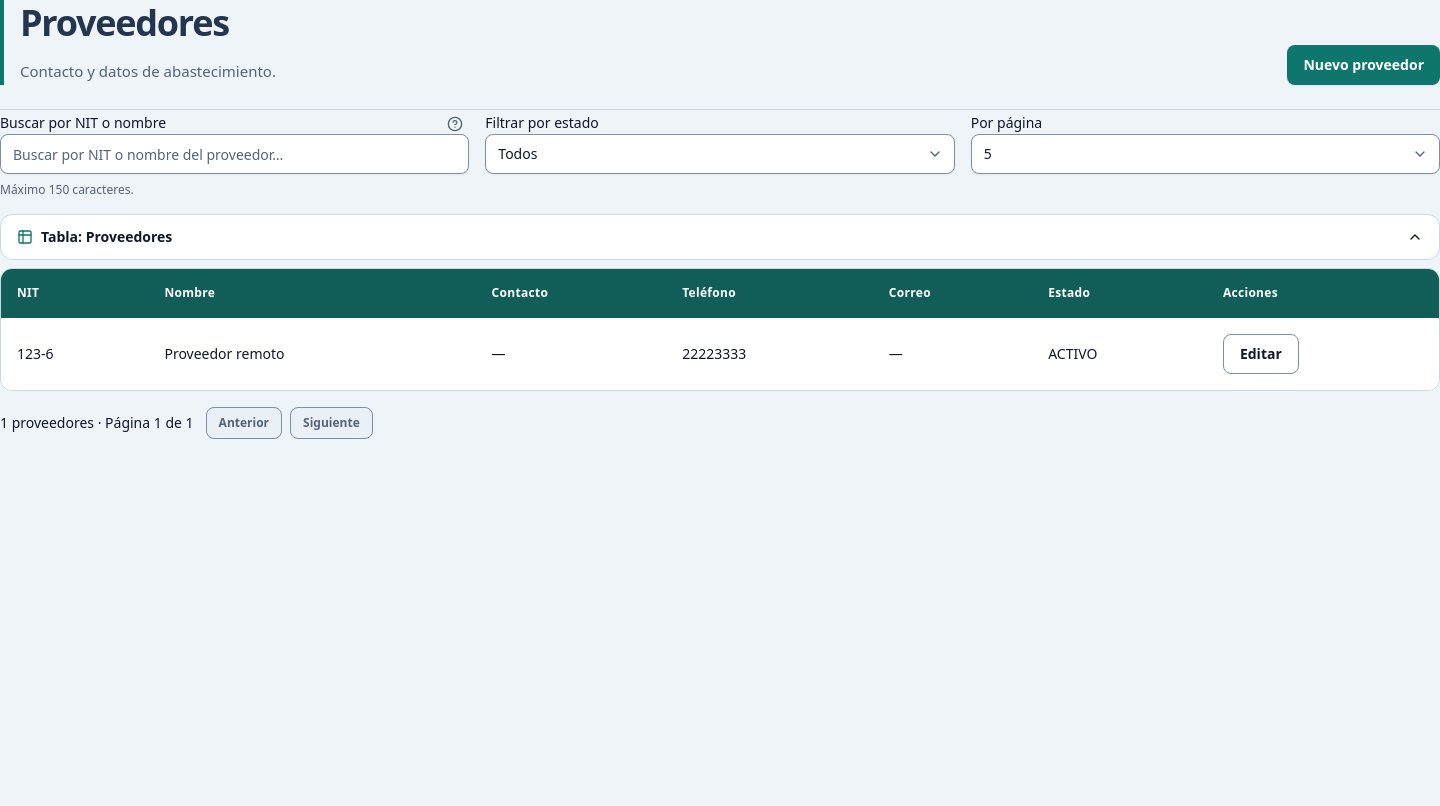
Test: proveedores HTTP › PATCH conserva campos y detalles 400
Click the button "Editar" at (1261, 354), box [1223, 334, 1299, 374]
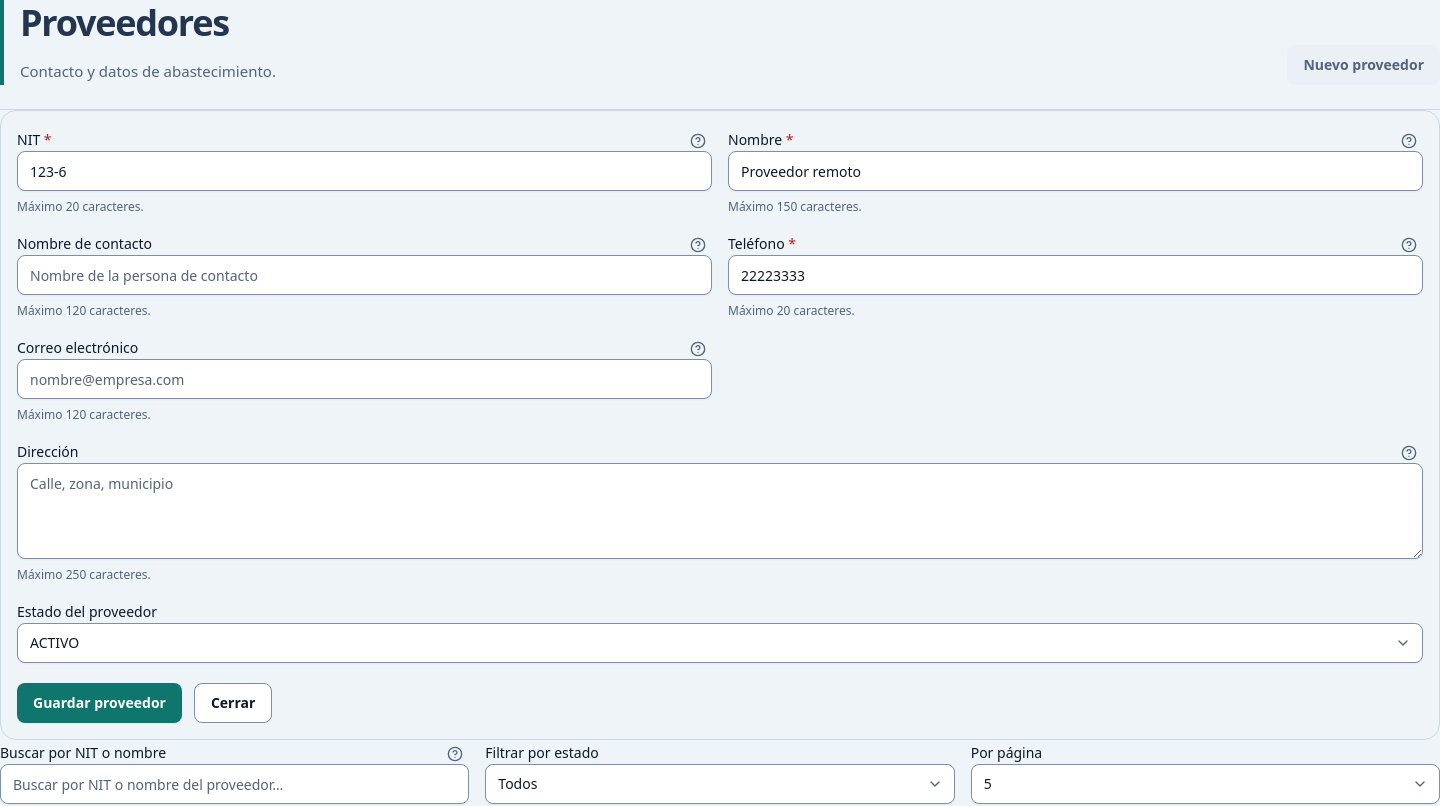
Replace the text in the field labelled "Nombre *" with "Modificado" at (1076, 171), box [728, 151, 1423, 191]
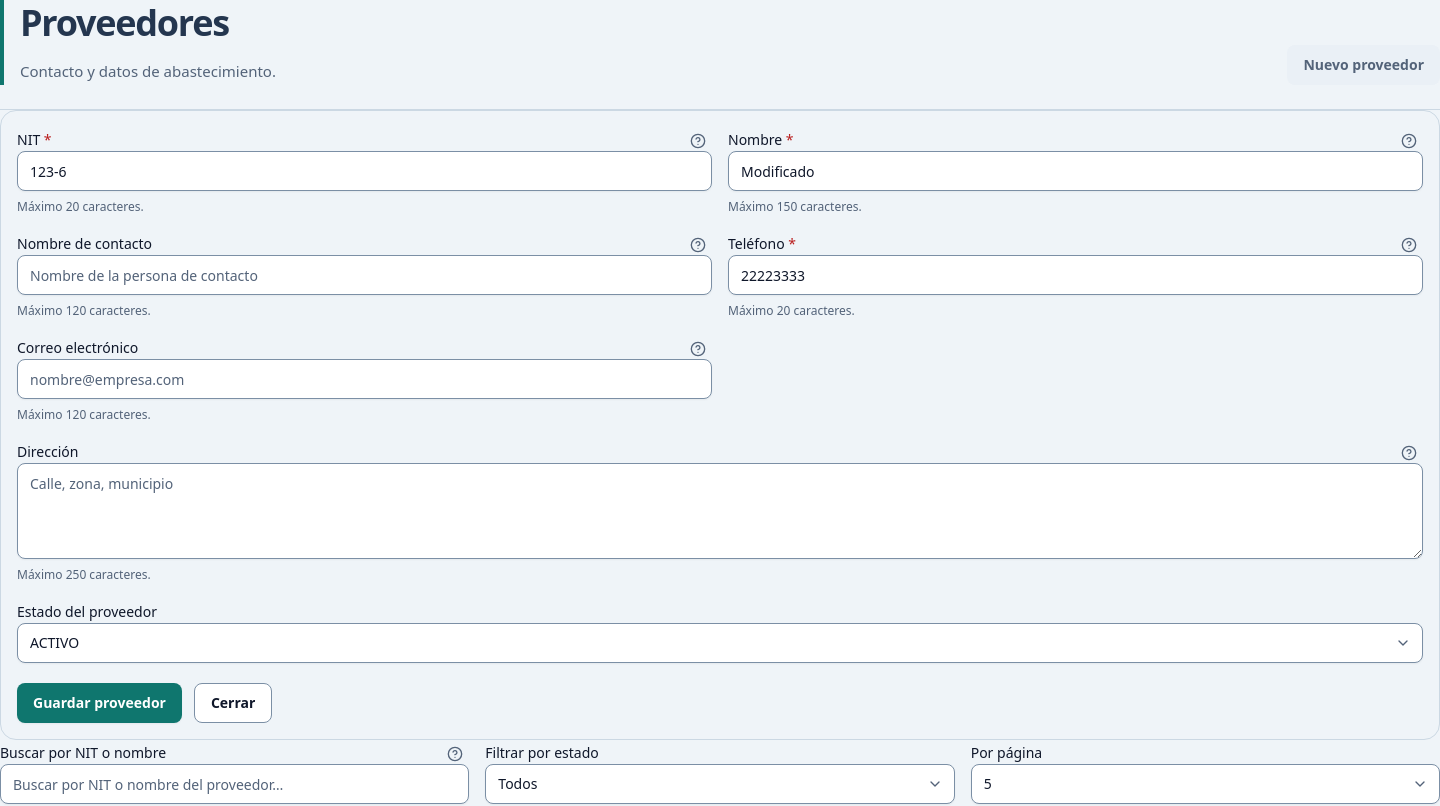
Click the button "Guardar proveedor" at (99, 703), box [17, 683, 182, 723]
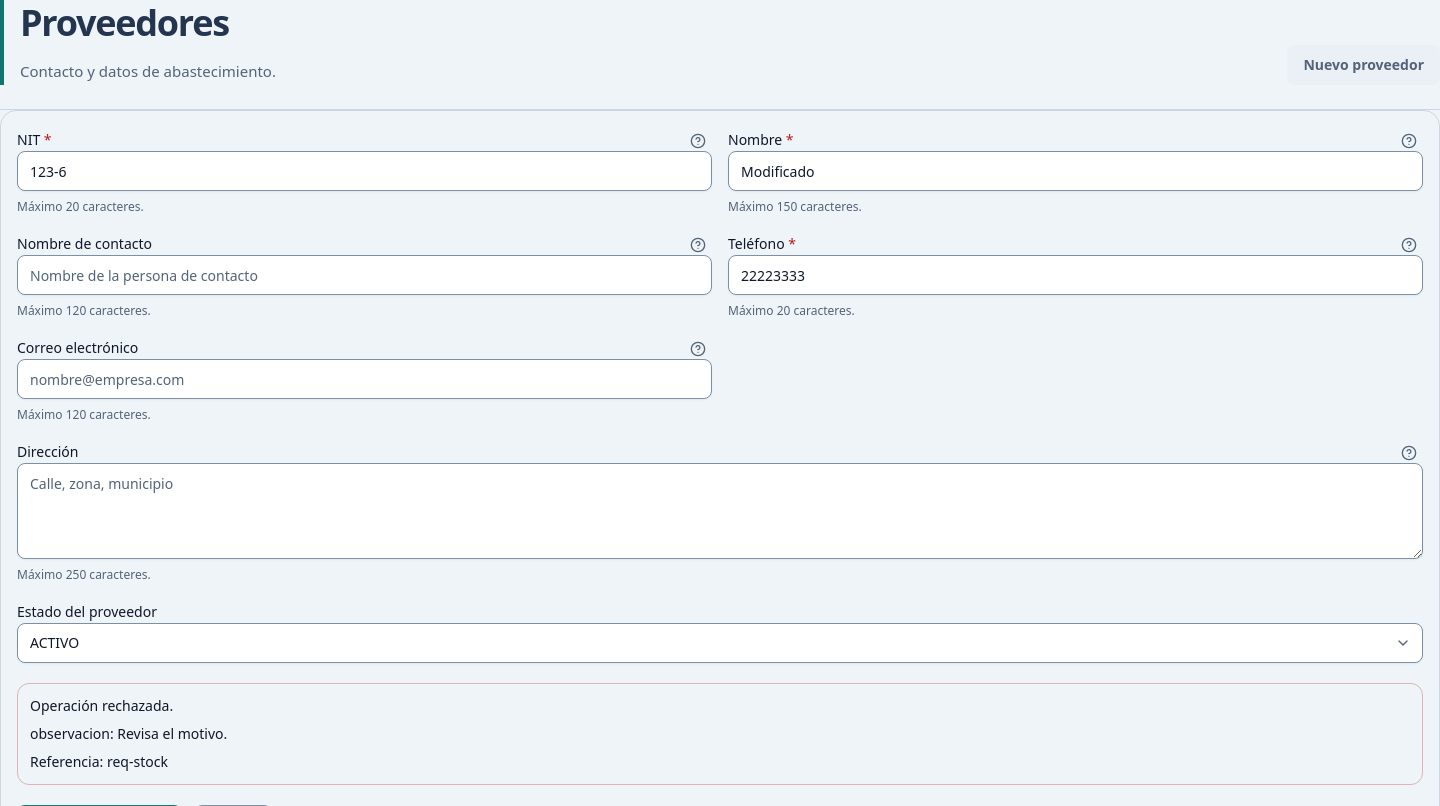
Check: the text "Operación rechazada." is shown, box [30, 696, 173, 715]
Check: the list item "observacion: Revisa el motivo." is shown, box [30, 724, 227, 743]
Check: the text "Referencia: req-stock" is shown, box [30, 752, 168, 771]
